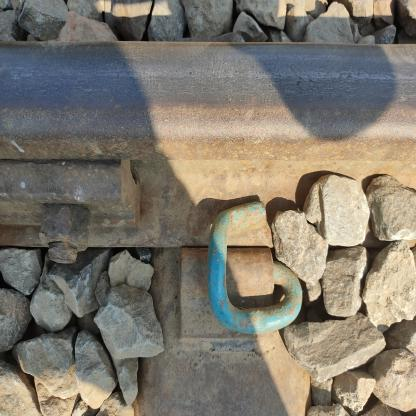Non Defective: (119, 55, 353, 392)
